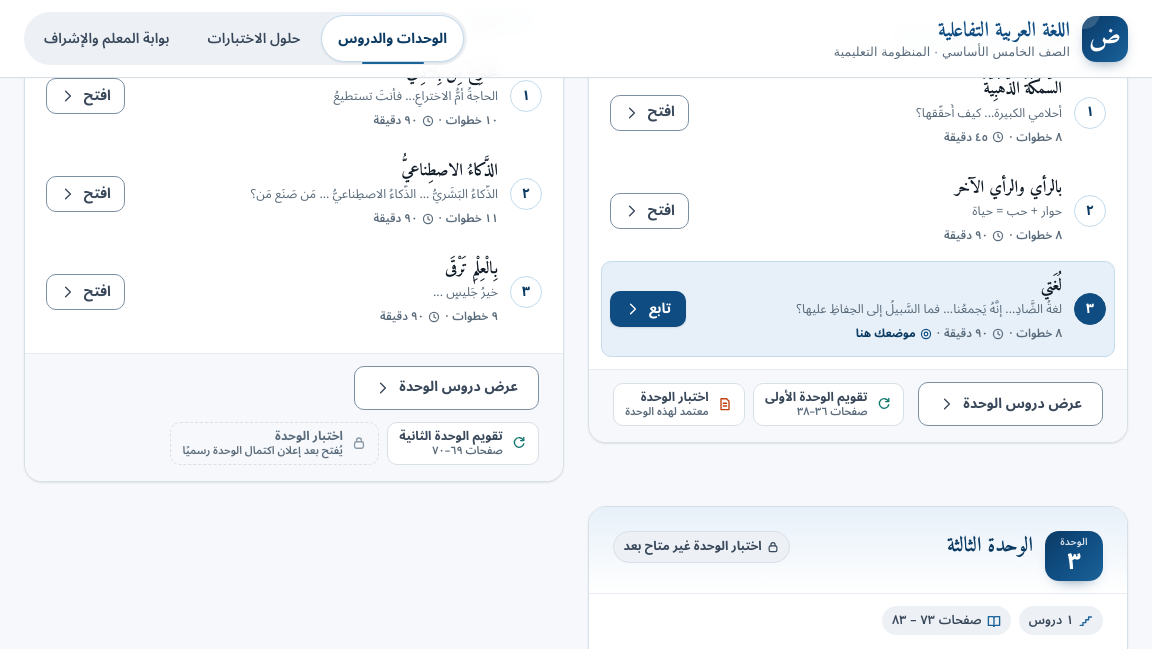
PR 3 — resume and storage › home resume card and unit page count only visible steps
The image size is (1152, 649).
(page scrolled)
Expected: the element with class "home-resume" does not show "٩"
What coordinates should you click on to do the following:
click the button with aria-label "عرض دروس الوحدة الأولى"
I would click on:
 (1011, 404)
Its box is top-left (918, 382), bottom-right (1103, 426).
(page scrolled)
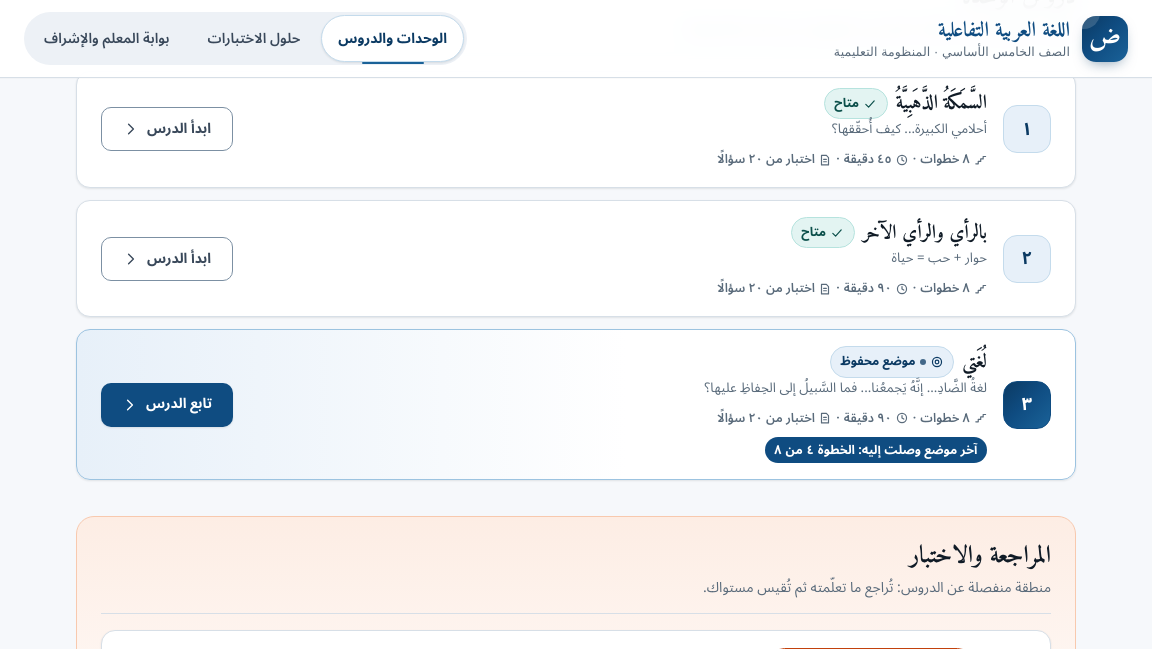
Expected: the list item named "تابع الدرس 3: لُغَتي" is shown, top-left (76, 329), bottom-right (1076, 480)
